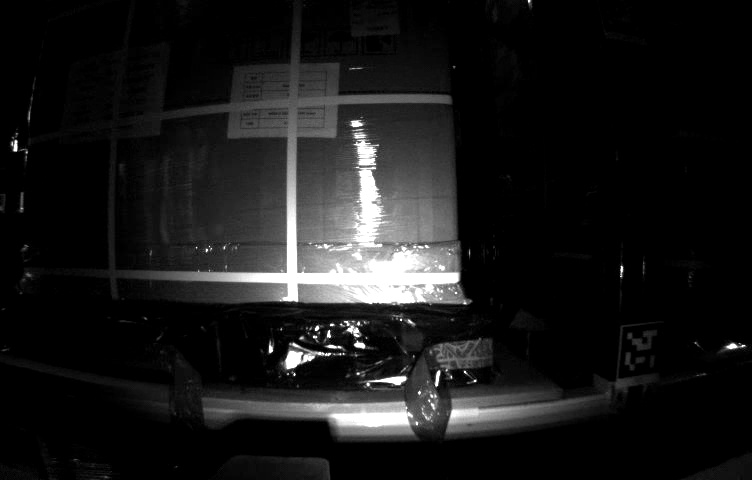True Barcode: (346, 1, 402, 36)
